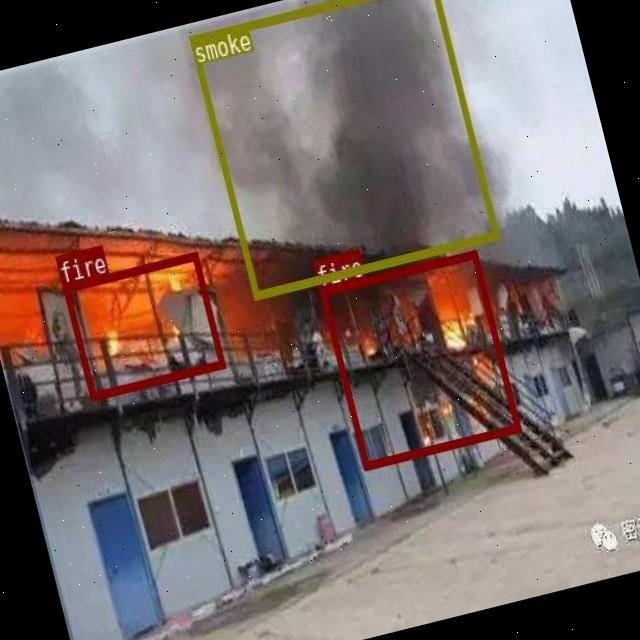fire: (318, 249, 520, 469), (62, 250, 225, 400)
smoke: (188, 0, 497, 297)
